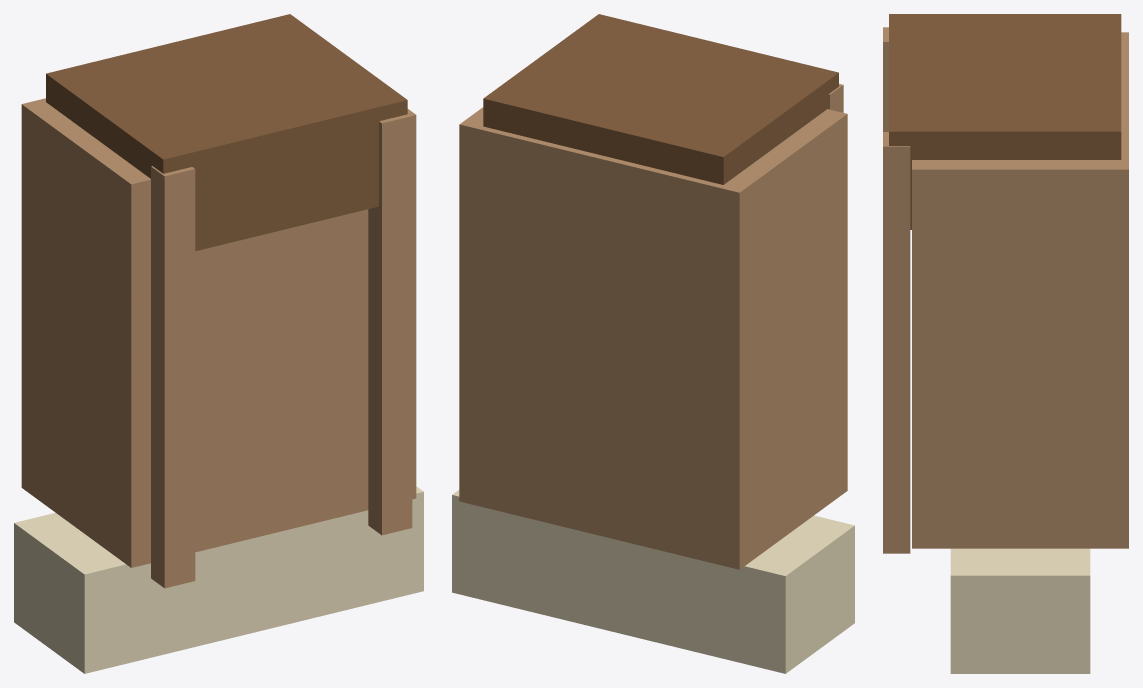
Rendered from trailPack.glb.
The picture shows the model from 3 angles, left to right: view 1: azimuth 30°, elevation 25°; view 2: azimuth 150°, elevation 25°; view 3: azimuth 270°, elevation 25°; orthographic projection.
Parts seen in each view (by area): view 1: PackBody, PackFlap, PackRoll, PackStrap, PackStrap.001; view 2: PackBody, PackRoll, PackFlap; view 3: PackBody, PackFlap, PackRoll, PackStrap.001, PackStrap.
Boxes of the visible parts, box(x1,y1,x2,y2) form: PackBody: box(21, 98, 416, 567); PackFlap: box(46, 14, 407, 251); PackRoll: box(14, 486, 423, 673); PackStrap: box(151, 166, 195, 588); PackStrap.001: box(368, 113, 412, 535); PackBody: box(459, 107, 847, 569); PackRoll: box(452, 490, 854, 673); PackFlap: box(483, 14, 838, 184); PackBody: box(912, 32, 1128, 548); PackFlap: box(889, 14, 1121, 229); PackRoll: box(950, 548, 1090, 673); PackStrap.001: box(883, 132, 910, 553); PackStrap: box(883, 27, 888, 131).
Size of the model in its own units: 0.5 by 0.74 by 0.3175.
